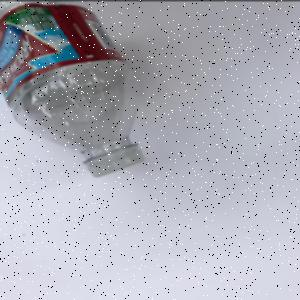Plastic-bottle: (2, 2, 148, 180)
